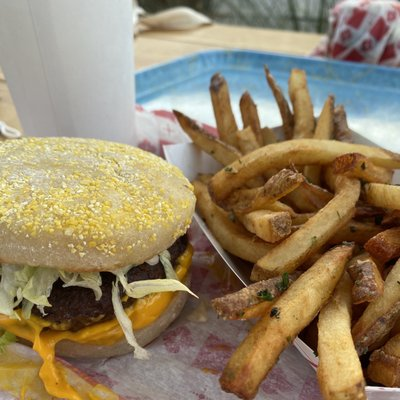soup: (0, 135, 199, 399)
